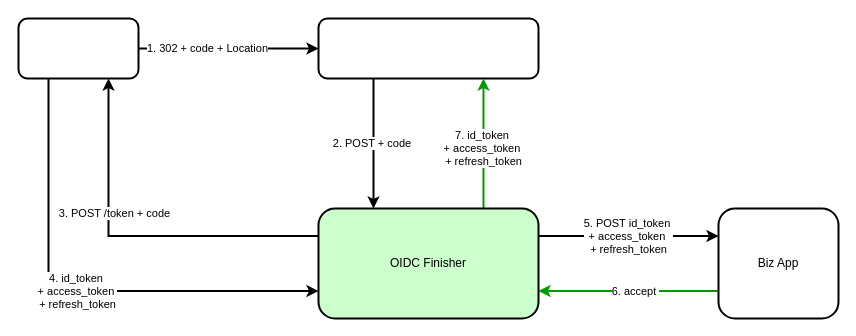
This 856x336 diagram has some shape labels left out. Each missing label, with the centre of its shape:
Client: point 428,48
OIDC Provider: point 78,48
